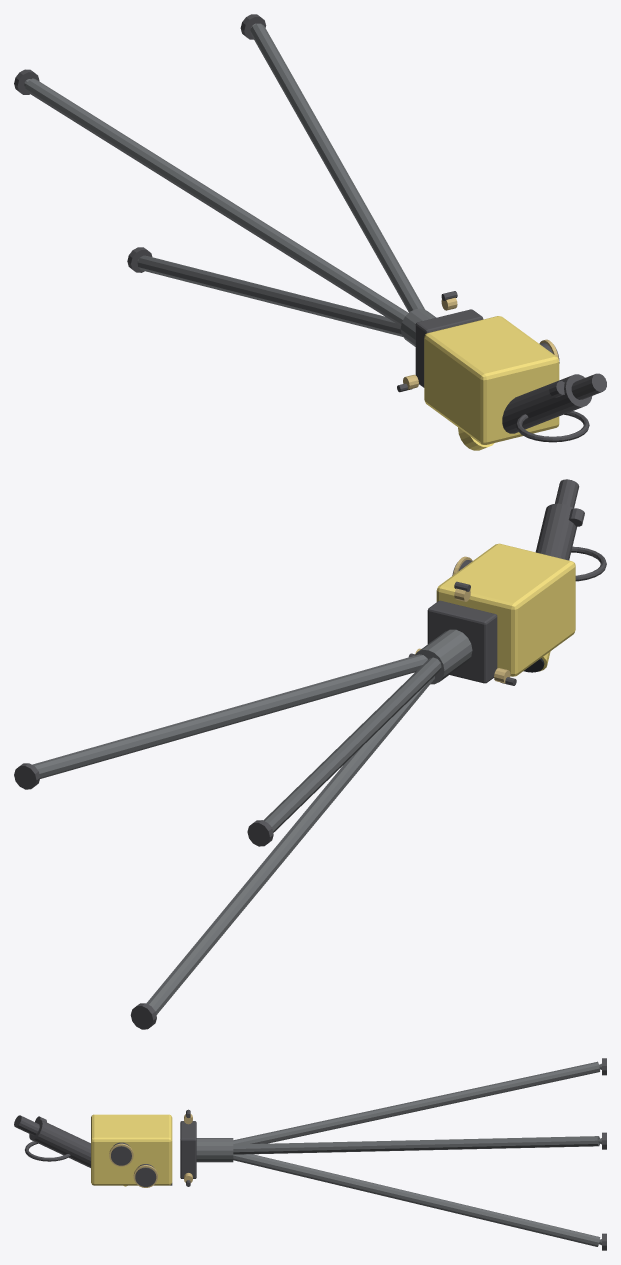
The model's file is STAY.glb.
The picture shows the model from 3 angles, top to bottom: view 1: azimuth 30°, elevation 25°; view 2: azimuth 150°, elevation 25°; view 3: azimuth 270°, elevation 25°; orthographic projection. The views are drawn at different scales.
Visible parts, largest first — view 1: STAY_body, STAY_leg150, STAY_leg30, STAY_leg270, STAY_tele, STAY_trib, STAY_handle, STAY_eyep, STAY_hub; view 2: STAY_body, STAY_leg30, STAY_leg270, STAY_leg150, STAY_trib, STAY_tele, STAY_hub; view 3: STAY_body, STAY_leg270, STAY_leg150, STAY_leg30, STAY_tele, STAY_hub, STAY_trib, STAY_knob_b, STAY_knob_a, STAY_eyep, STAY_handle.
Boxes of the visible parts, x1,y1,x2,y2 form: STAY_body: (424,316,559,444); STAY_leg150: (25,78,408,325); STAY_leg30: (250,23,425,312); STAY_leg270: (137,255,402,336); STAY_tele: (502,374,592,433); STAY_trib: (415,309,483,387); STAY_handle: (516,411,589,442); STAY_eyep: (571,373,606,399); STAY_hub: (400,308,436,346); STAY_body: (436,543,575,676); STAY_leg30: (32,654,427,778); STAY_leg270: (146,676,434,1014); STAY_leg150: (263,657,441,832); STAY_trib: (427,600,497,683); STAY_tele: (535,503,576,560); STAY_hub: (415,629,472,684); STAY_body: (91,1114,172,1185); STAY_leg270: (233,1154,600,1246); STAY_leg150: (233,1061,599,1144); STAY_leg30: (233,1136,599,1154); STAY_tele: (29,1119,90,1167); STAY_hub: (196,1138,233,1162); STAY_trib: (180,1121,196,1178); STAY_knob_b: (135,1164,156,1186); STAY_knob_a: (111,1142,131,1165); STAY_eyep: (14,1115,39,1135); STAY_handle: (25,1141,70,1161).
Size of the model in its own units: 0.475 by 0.417 by 1.46.
